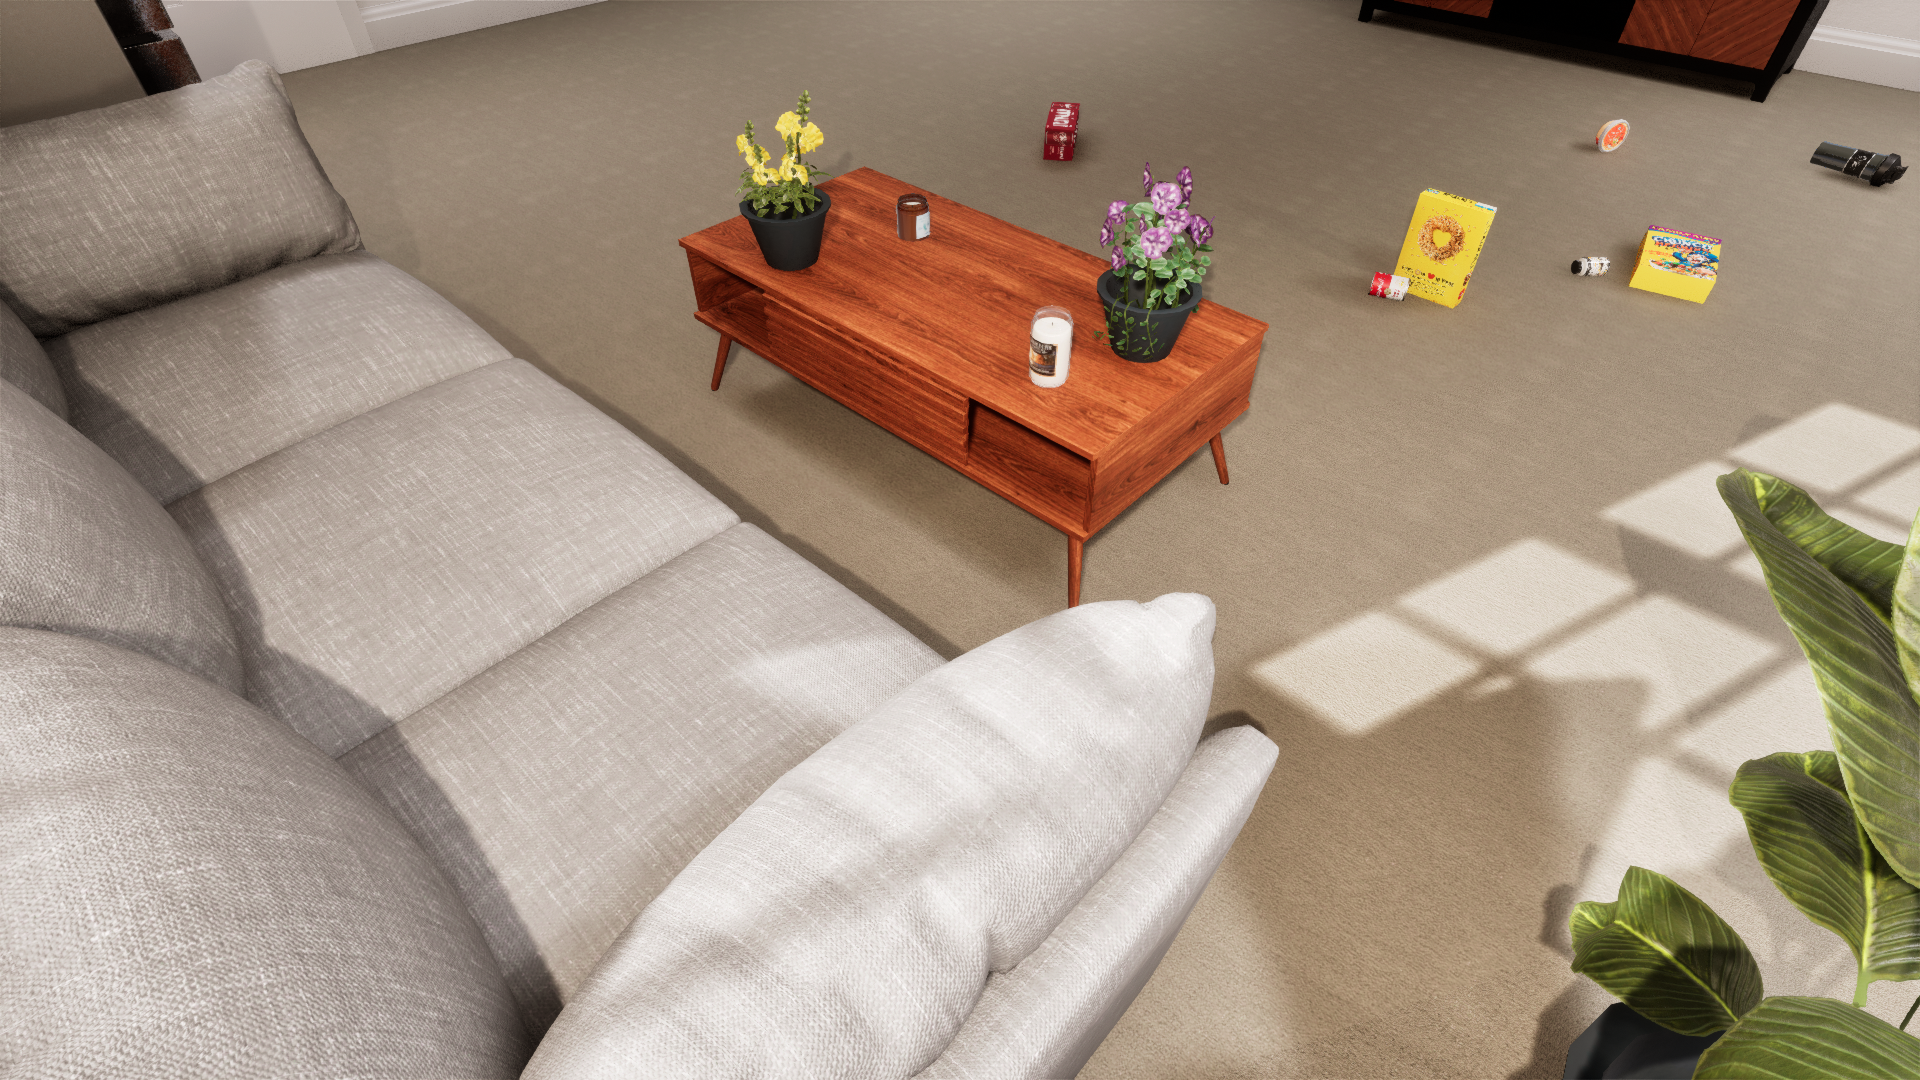cheerios: (1379, 640, 1462, 796)
soup: (1447, 753, 1505, 802)
